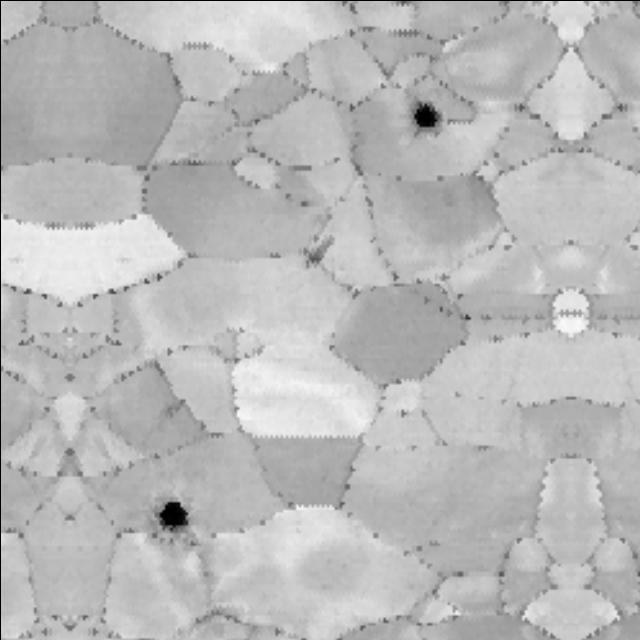good_void: (387, 95, 468, 144), (143, 484, 203, 547), (301, 230, 340, 275)
